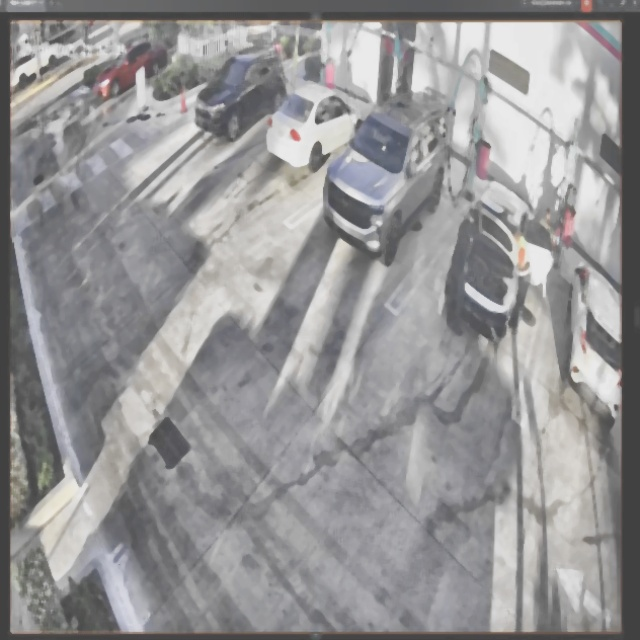Car: (327, 89, 449, 263), (451, 181, 551, 333), (269, 83, 363, 169)
